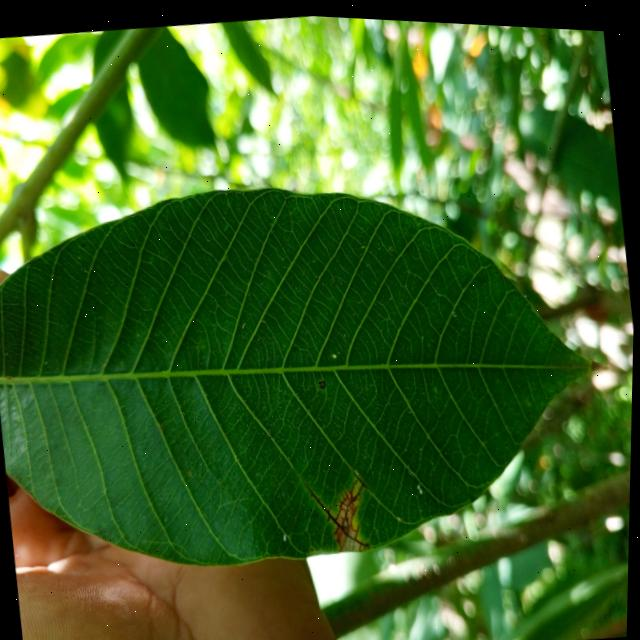Corynespora: (301, 462, 379, 554)
